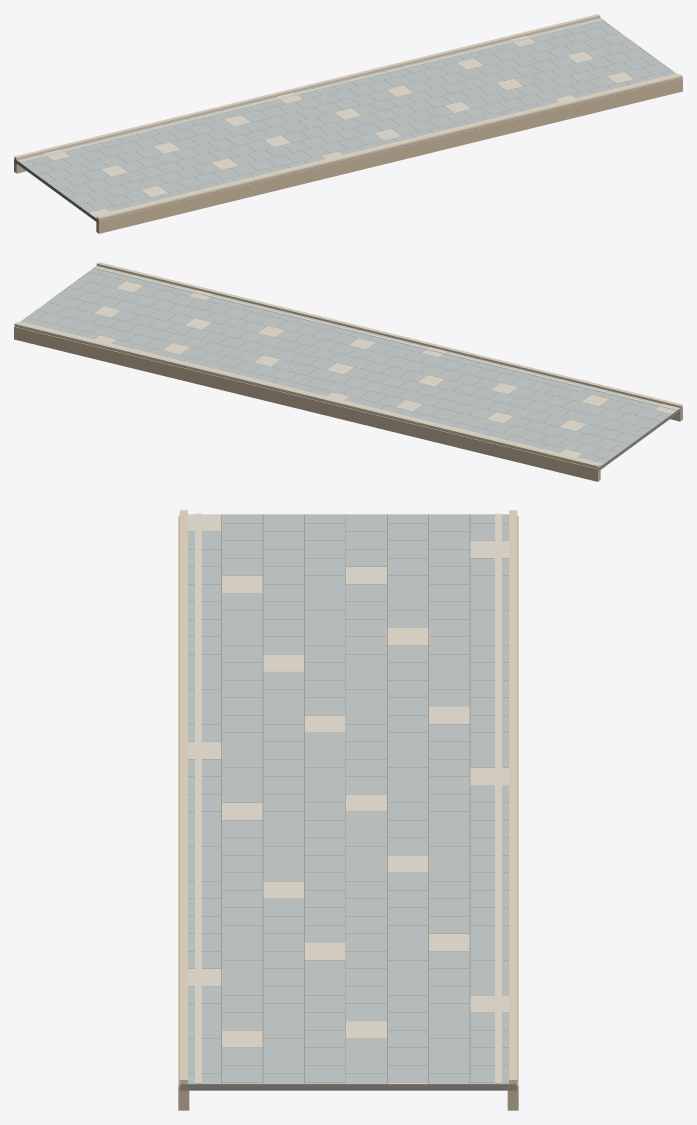
The model's file is Promenade06.glb.
3 views of the same model, one above another, from view 1: azimuth 30°, elevation 25°; view 2: azimuth 150°, elevation 25°; view 3: azimuth 270°, elevation 25° (orthographic). The views are drawn at different scales.
Visible parts, largest first — view 1: Promenade06; view 2: Promenade06; view 3: Promenade06.
Part boxes in pixels (bbox=[...]): Promenade06: bbox=[14, 14, 682, 233]; Promenade06: bbox=[14, 262, 682, 481]; Promenade06: bbox=[178, 510, 518, 1110].
Size of the model in its own units: 50.52 by 1.27 by 12.76.
